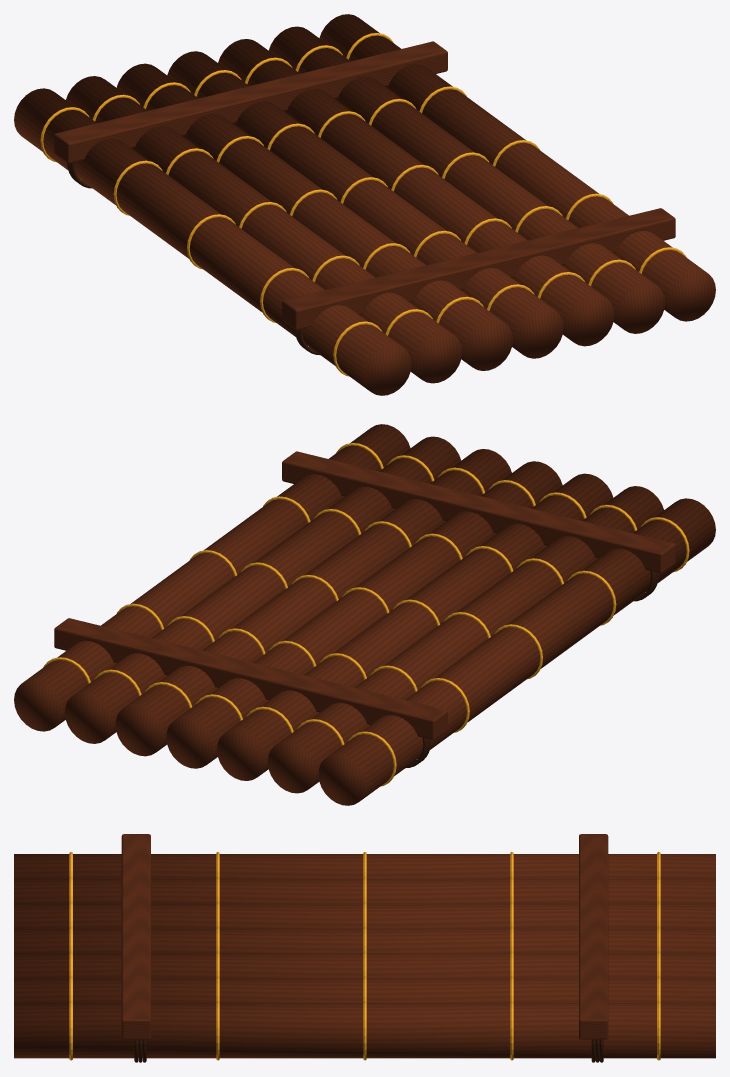
File: raft-deck.glb
The picture shows the model from 3 angles, top to bottom: view 1: azimuth 30°, elevation 25°; view 2: azimuth 150°, elevation 25°; view 3: azimuth 270°, elevation 25°; orthographic projection.
Parts seen in each view (by area): view 1: raft-deck; view 2: raft-deck; view 3: raft-deck.
Boxes of the visible parts, bbox=[...] form: raft-deck: bbox=[14, 14, 715, 395]; raft-deck: bbox=[14, 424, 715, 805]; raft-deck: bbox=[14, 834, 715, 1062].
Bounding box in the file's own units: 2.7 × 0.397 × 4.3.
Materials: 3 (3 with a texture image).
